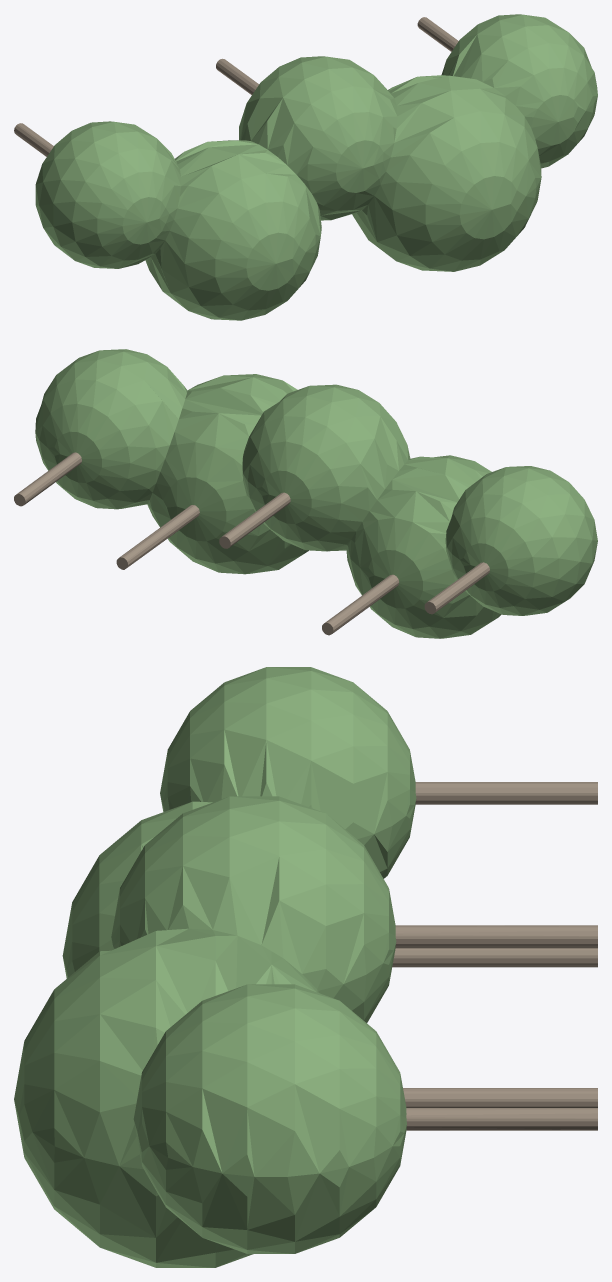
The model's file is r-104-seekonk-park-woods.glb.
3 views of the same model, one above another, from view 1: azimuth 30°, elevation 25°; view 2: azimuth 150°, elevation 25°; view 3: azimuth 270°, elevation 25° (orthographic). The views are drawn at different scales.
Parts seen in each view (by area): view 1: foliage, trunks; view 2: foliage, trunks; view 3: foliage, trunks.
Part boxes in pixels (<box>): foliage: <box>35,14,597,320</box>; trunks: <box>14,17,458,156</box>; foliage: <box>35,349,597,638</box>; trunks: <box>14,452,489,635</box>; foliage: <box>14,667,416,1267</box>; trunks: <box>392,782,597,1130</box>.
Size of the model in its own units: 37197 by 14341 by 20399.
